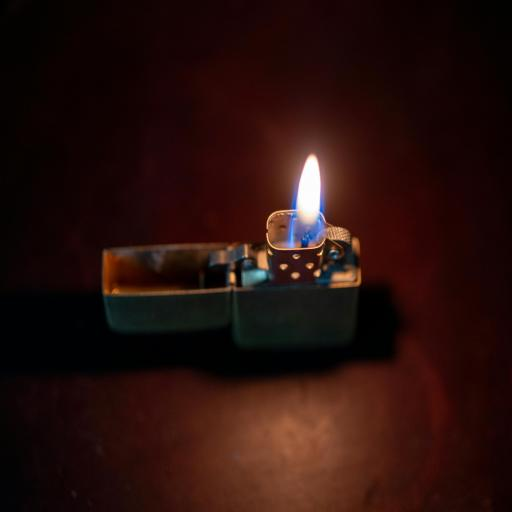fire: (267, 143, 339, 240)
lighter: (62, 143, 394, 397)
